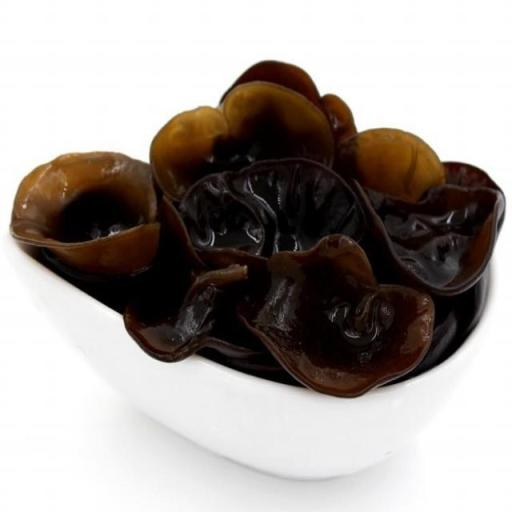Wood Ear Mushroom: (12, 59, 505, 400)
